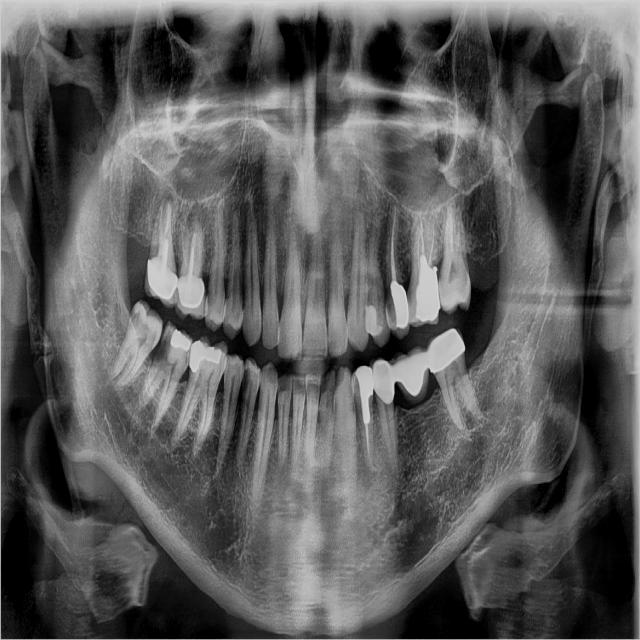Caries: (149, 323, 175, 370), (241, 361, 251, 400), (128, 304, 141, 331), (184, 344, 190, 369), (141, 319, 150, 335), (407, 285, 412, 302)
Crown: (391, 346, 431, 403), (425, 328, 465, 374), (143, 258, 178, 308), (174, 273, 208, 319), (370, 357, 394, 403)
Filling: (414, 254, 441, 323), (355, 364, 374, 424), (190, 340, 221, 374), (390, 281, 409, 329), (365, 305, 382, 335), (169, 326, 189, 351)
Root Canal Treatment: (161, 201, 170, 268), (365, 423, 377, 470), (391, 207, 397, 281), (180, 220, 188, 270), (428, 221, 434, 264), (157, 207, 161, 260), (191, 233, 195, 278), (420, 219, 425, 255), (417, 228, 421, 272)
